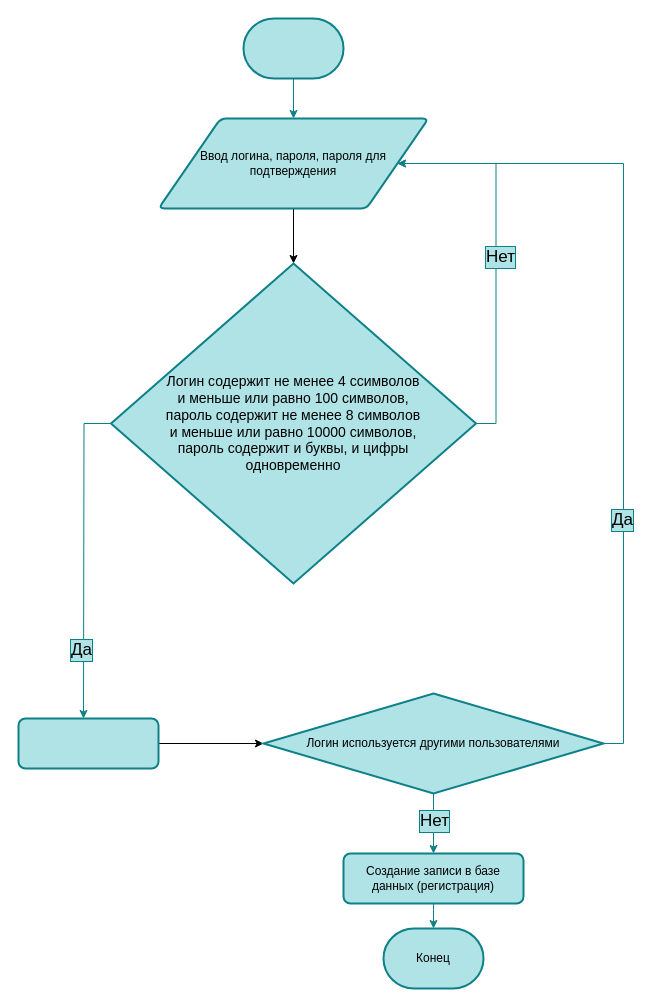
Image size: 650x1006. Some labels were removed from this diagram. The shapes that lost their labels are listed below. From the top down, each one's centre as x and y in pixels, then its label:
the point at 293,48: Начало
the point at 88,743: Создание хэша пароля
